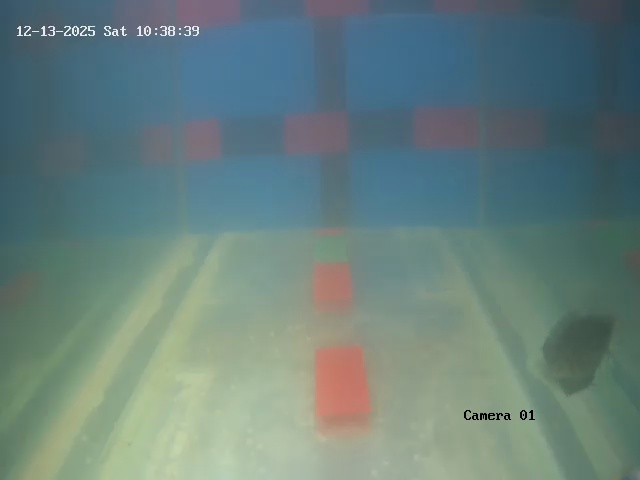fish: (539, 308, 610, 391)
